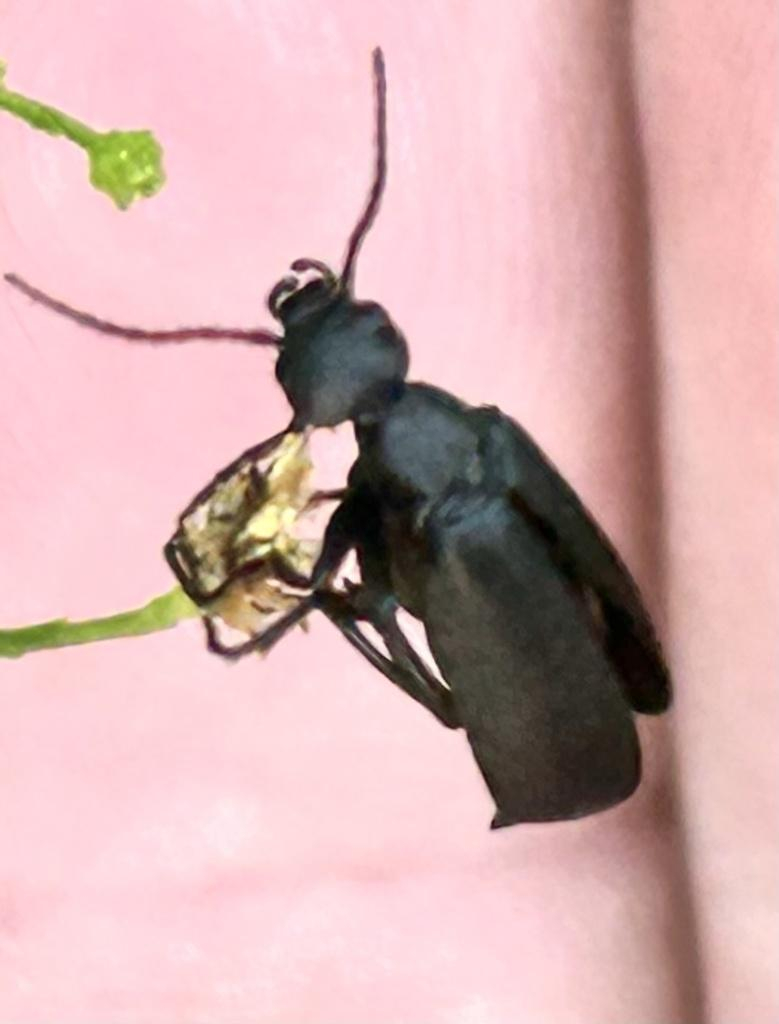blister_beetle: (0, 5, 779, 929)
